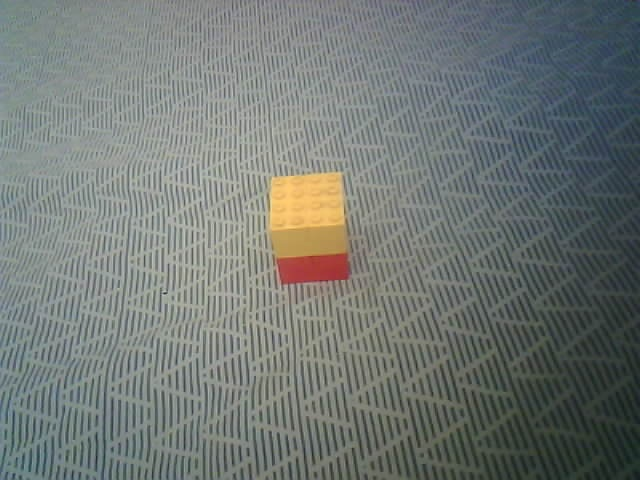lego: (267, 171, 349, 285)
